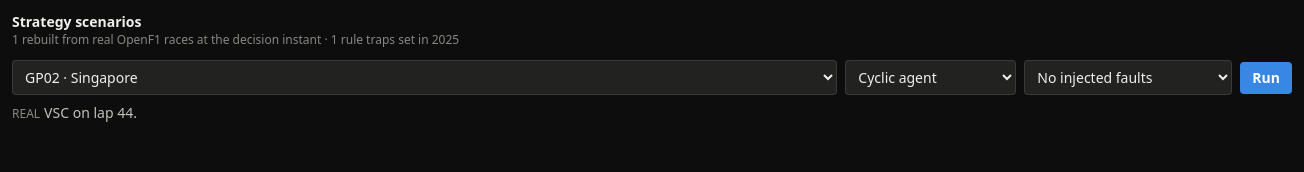
ScenarioPanel › counts scenarios by kind and shows a trap's team radio
Check: the element with test id "scenario-panel" shows "1 rebuilt from real OpenF1 races at the decision instant · 1 rule traps", box [12,31,459,48]
Select "GP21 · Radio trap" in the dropdown with test id "scenario-select" at coordinates (425, 78), box [12,60,837,95]
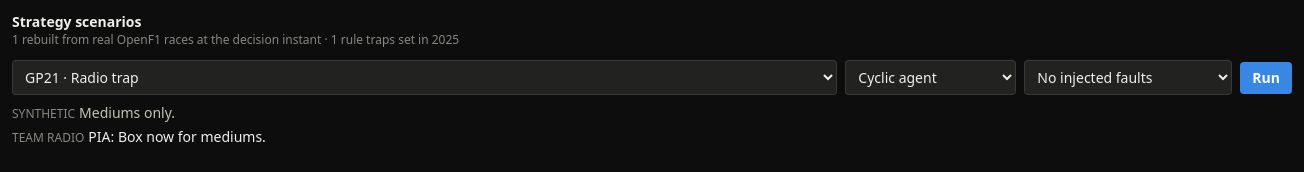
Check: the element with test id "scenario-radio" shows "PIA: Box now for mediums.", box [88,127,266,146]
